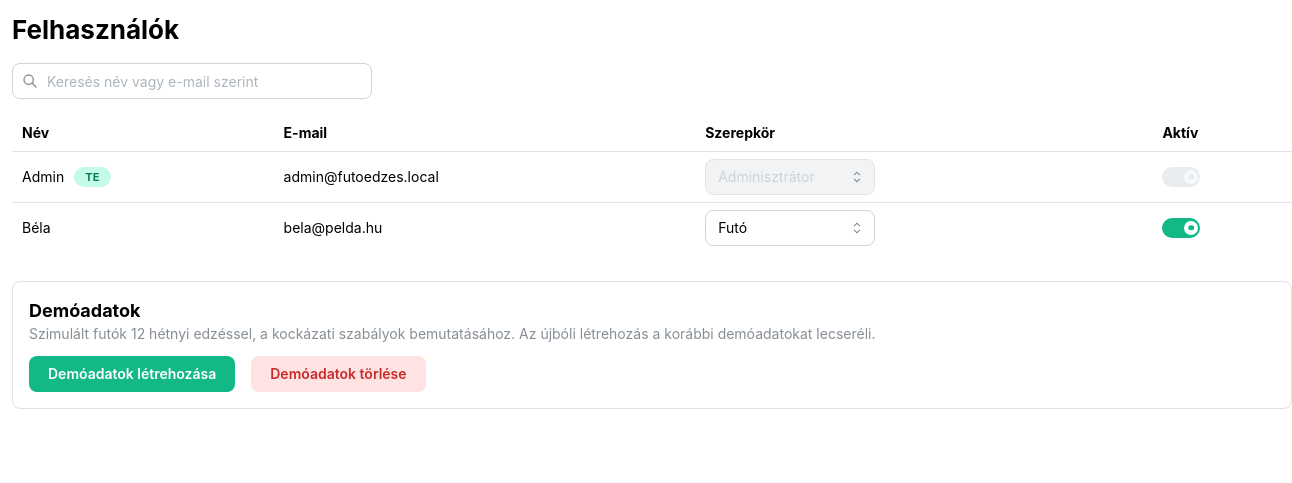
Test: AdminUsersPage › a demóadatok létrehozása után a létrehozott futókat mutatja
Click the button "Demóadatok létrehozása" at x=132, y=374, box 29,356 -> 235,392
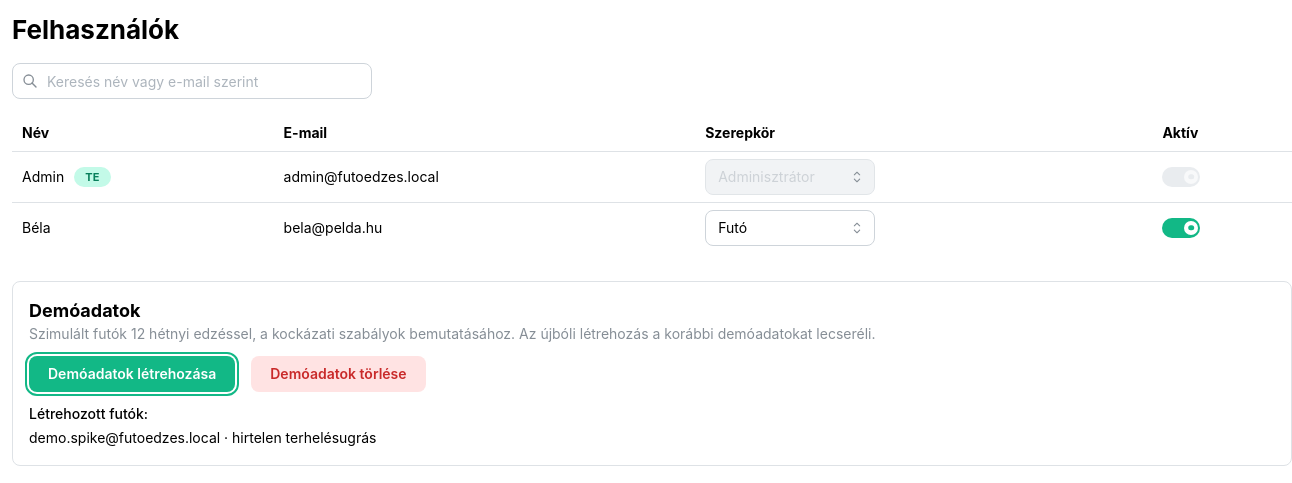
Expected: the text "demo.spike@futoedzes.local · hirtelen terhelésugrás" is shown, 29,430 -> 376,446
Click the button "Demóadatok törlése" at x=338, y=374, box 251,356 -> 426,392
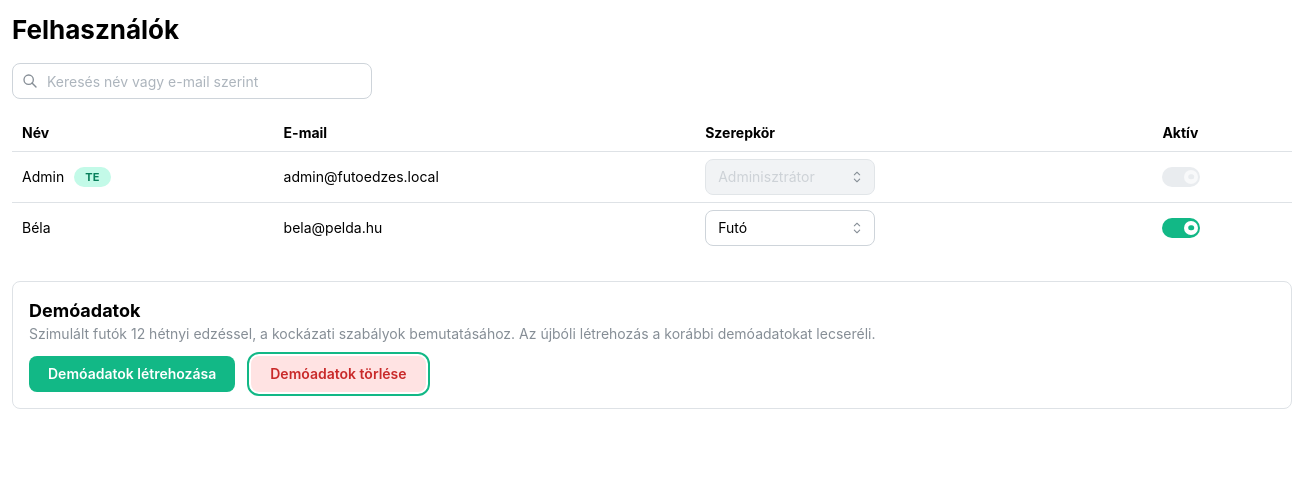
Expected: the text "demo.spike" is gone
Expected: the text "Létrehozott futók:" is gone
